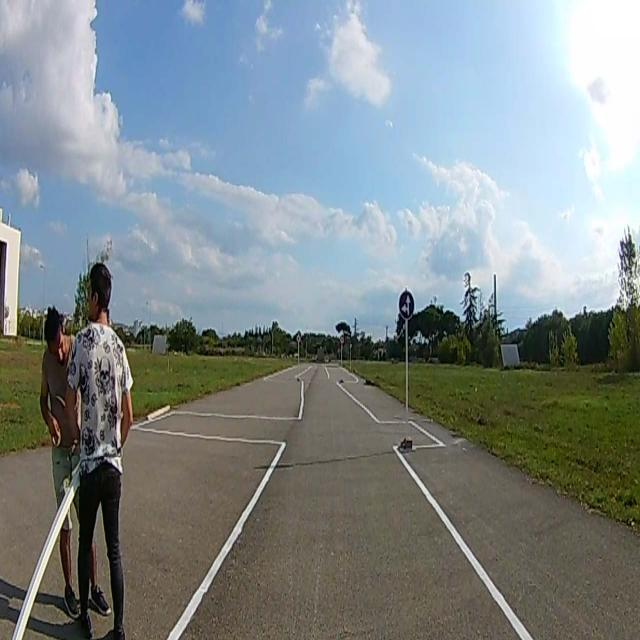ilerisol: (398, 290, 415, 322)
